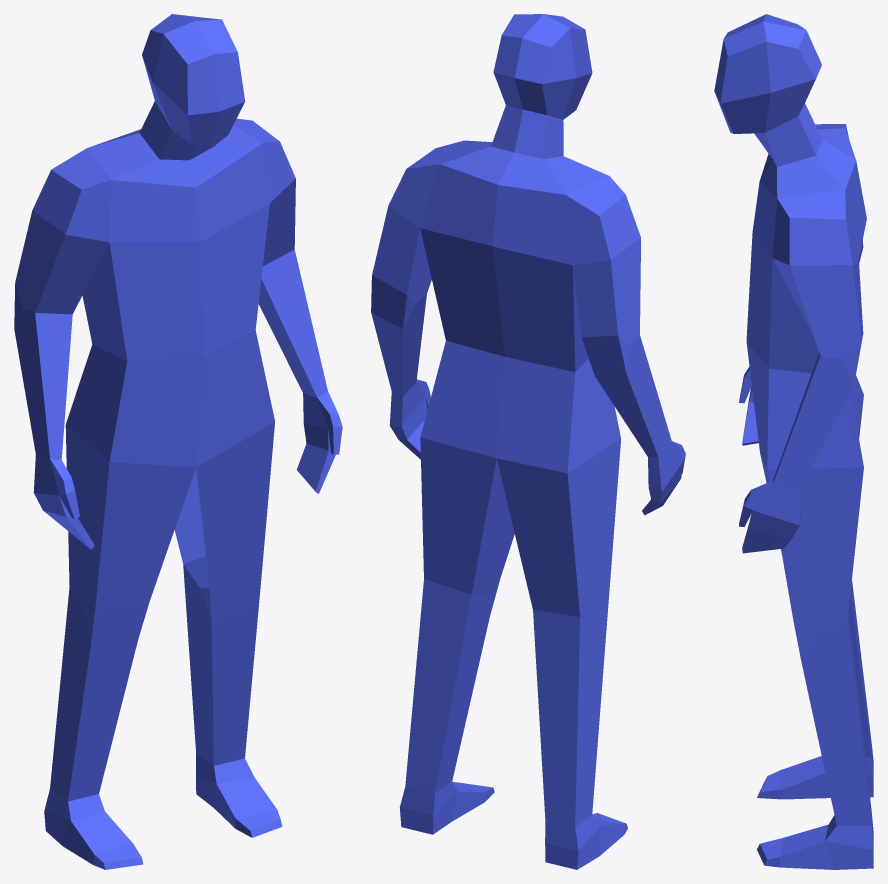
The model's file is GGJ2025_Humano_Azul.fbx.
3 renders of one model, left to right at view 1: azimuth 30°, elevation 25°; view 2: azimuth 150°, elevation 25°; view 3: azimuth 270°, elevation 25°, orthographic. The views are drawn at different scales.
Parts seen in each view (by area): view 1: Human.001; view 2: Human.001; view 3: Human.001.
Part boxes in pixels (x1,y1,x2,y2): Human.001: (14,14,342,869); Human.001: (371,14,685,869); Human.001: (714,14,873,869).
Bounding box in the file's own units: 101 × 282 × 50.76.
